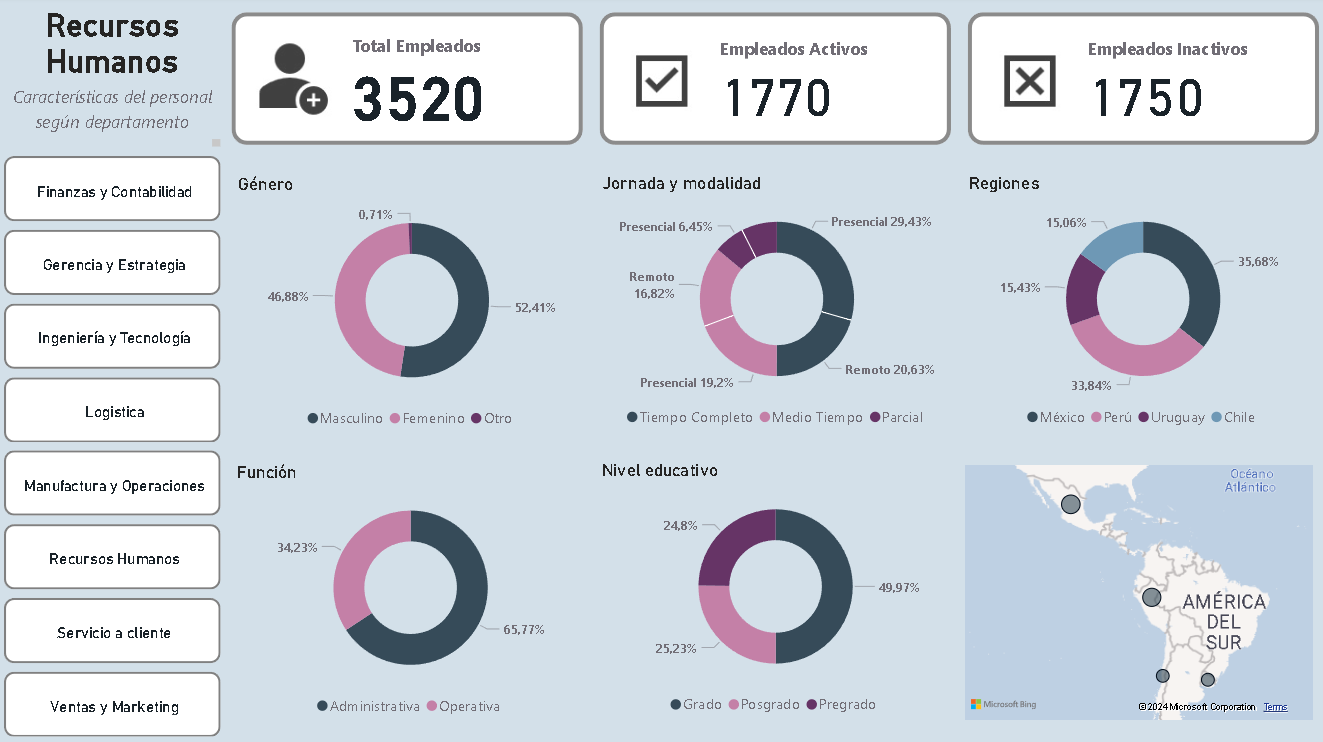

Layout of this report page (visuals, bound fields, positions):
{"tool":"powerbi","page":{"name":"Reporte RRHH","canvas":[1280,720],"ordinal":2},"visuals":[{"type":"cardVisual","fields":{"Data":["Tabla1.Total empleados","Tabla1.Total empleados activos","Tabla1.Total empleados inactivos"]},"box":[219.5,10.9,1060.1,138.7],"z":0},{"type":"textbox","title":"Recursos Humanos","box":[0,10.7,219,139.2],"z":1000},{"type":"donutChart","title":"Género","fields":{"Y":["Tabla1.Total empleados"],"Category":["Tabla1.Género"]},"box":[225.7,171.6,346.1,255],"z":2000},{"type":"advancedSlicerVisual","title":"Total empleados según departamento","fields":{"Values":["Tabla1.Departamento"]},"box":[0,149.5,219.5,570.5],"z":3000},{"type":"donutChart","title":"Nivel educativo","fields":{"Y":["Tabla1.Total empleados"],"Category":["Tabla1.Educación"]},"box":[576.1,447.7,346,255],"z":4000},{"type":"donutChart","title":"Función","fields":{"Y":["Tabla1.Total empleados"],"Category":["Tabla1.Función"]},"box":[224.8,448.9,346,255],"z":5000},{"type":"donutChart","title":"Jornada y modalidad","fields":{"Y":["Tabla1.Total empleados"],"Category":["Tabla1.Jornada"],"Series":["Tabla1.Modalidad"]},"box":[578.1,170.2,346.1,255],"z":6000},{"type":"donutChart","title":"Regiones","fields":{"Y":["Tabla1.Total empleados"],"Category":["Tabla1.Región"]},"box":[930.5,170.2,346.1,255],"z":7000},{"type":"map","fields":{"Category":["Tabla1.Región"],"Size":["Tabla1.Total empleados"]},"box":[927.4,447.4,346,255.7],"z":8000}]}

Visuals, with their boxes in screenshot pixels (x1, y1, x2, y2), scaled from the page's 1280x720 canvas onto the 1323x742 screenshot:
cardVisual - Tabla1.Total empleados x Tabla1.Total empleados activos: {"left": 227, "top": 11, "right": 1322, "bottom": 154}
"Recursos Humanos" textbox: {"left": 0, "top": 11, "right": 226, "bottom": 154}
"Género" donutChart: {"left": 233, "top": 177, "right": 591, "bottom": 440}
"Total empleados según departamento" advancedSlicerVisual: {"left": 0, "top": 154, "right": 227, "bottom": 741}
"Nivel educativo" donutChart: {"left": 595, "top": 461, "right": 953, "bottom": 724}
"Función" donutChart: {"left": 232, "top": 463, "right": 590, "bottom": 725}
"Jornada y modalidad" donutChart: {"left": 598, "top": 175, "right": 955, "bottom": 438}
"Regiones" donutChart: {"left": 962, "top": 175, "right": 1319, "bottom": 438}
map - Tabla1.Región x Tabla1.Total empleados: {"left": 959, "top": 461, "right": 1316, "bottom": 725}
